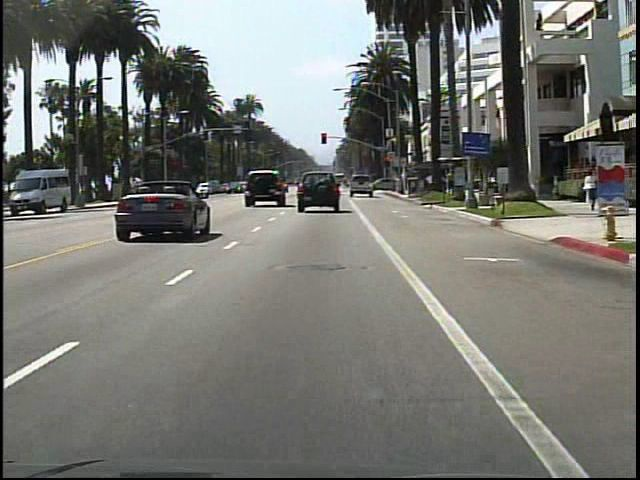person: (579, 169, 596, 217)
